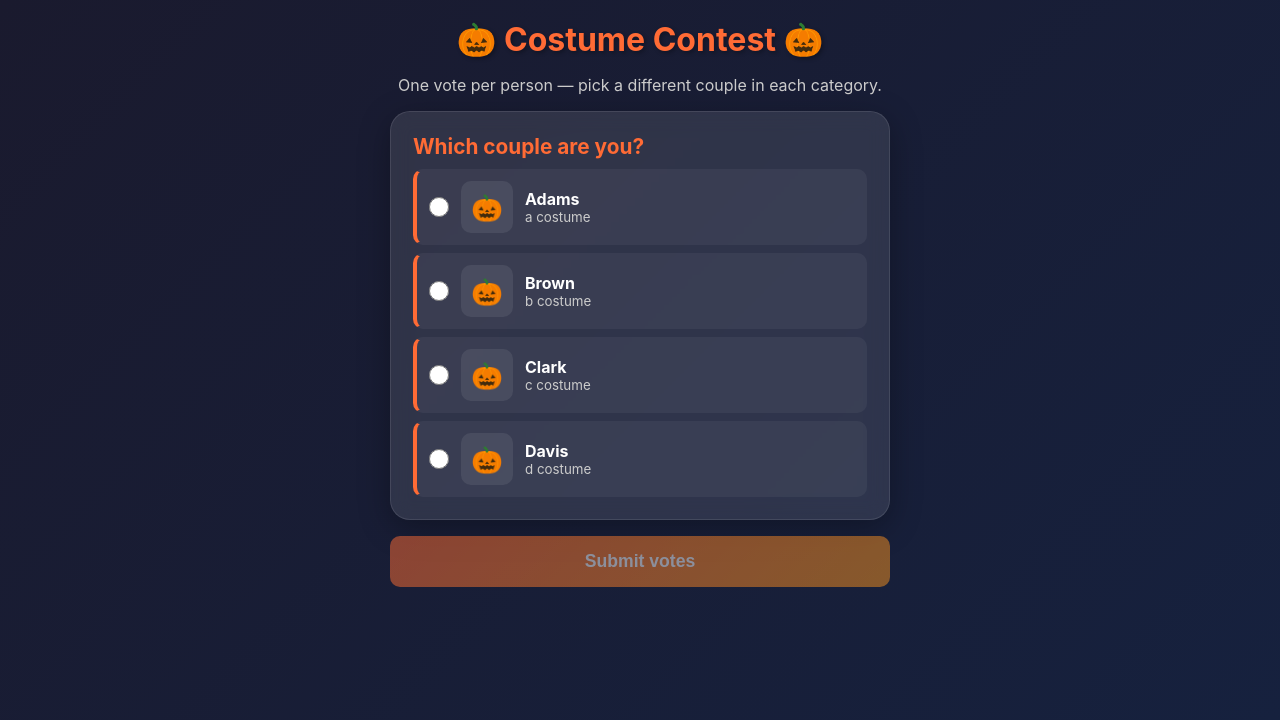
Vote form › disables your own couple in all three categories
This screenshot has width=1280, height=720.
Click the radio button labelled "🎃 Brown b costume" at (439, 291), box [429,281,449,301]
(page scrolled)
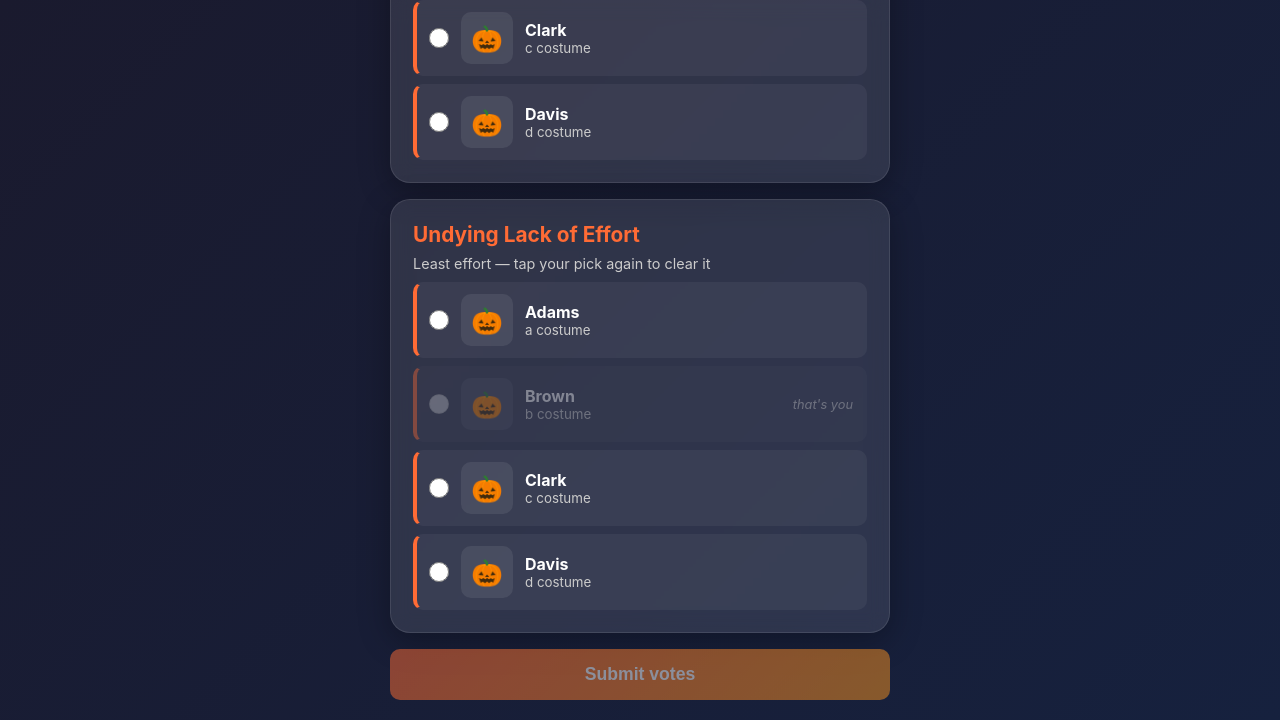
Expected: the radio button labelled "🎃 Clark c costume" below "Funniest costume" is enabled, [429,28,449,48]
Expected: the radio button labelled "🎃 Davis d costume" below "Funniest costume" is enabled, [429,112,449,132]
Expected: the radio button labelled "🎃 Brown b costume that's you" is disabled, [429,394,449,414]
